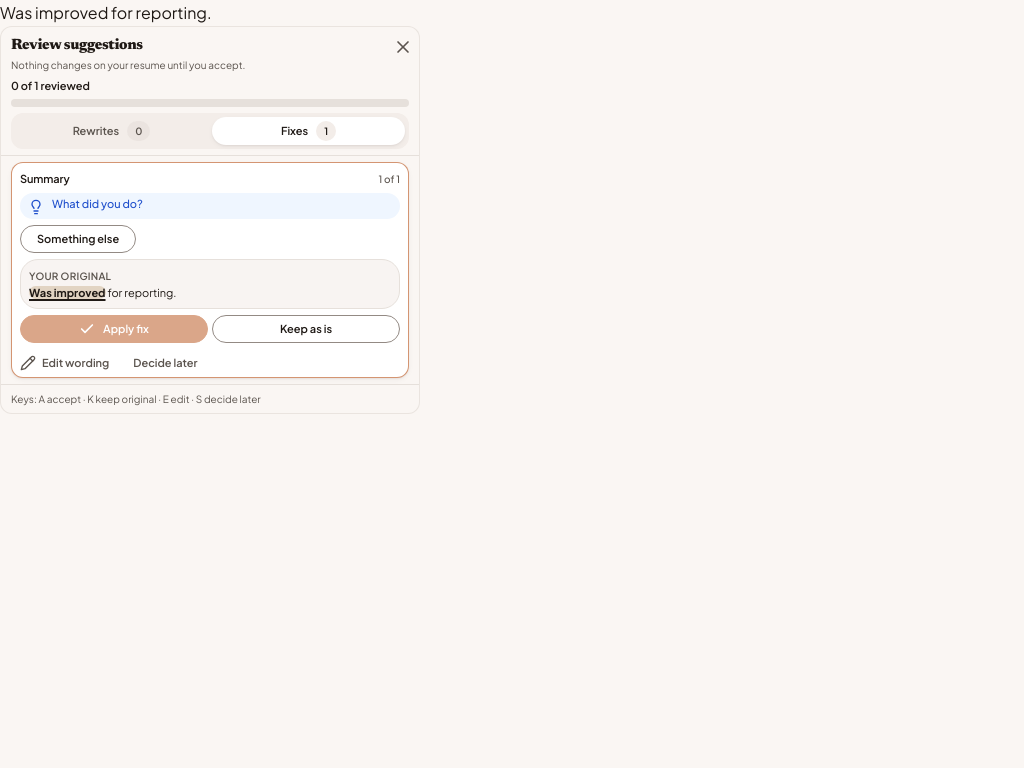
it: guided panel decisions › applies and undoes style.passive through the existing accept path
Click the button "Something else" at (78, 239), box [20,225,136,253]
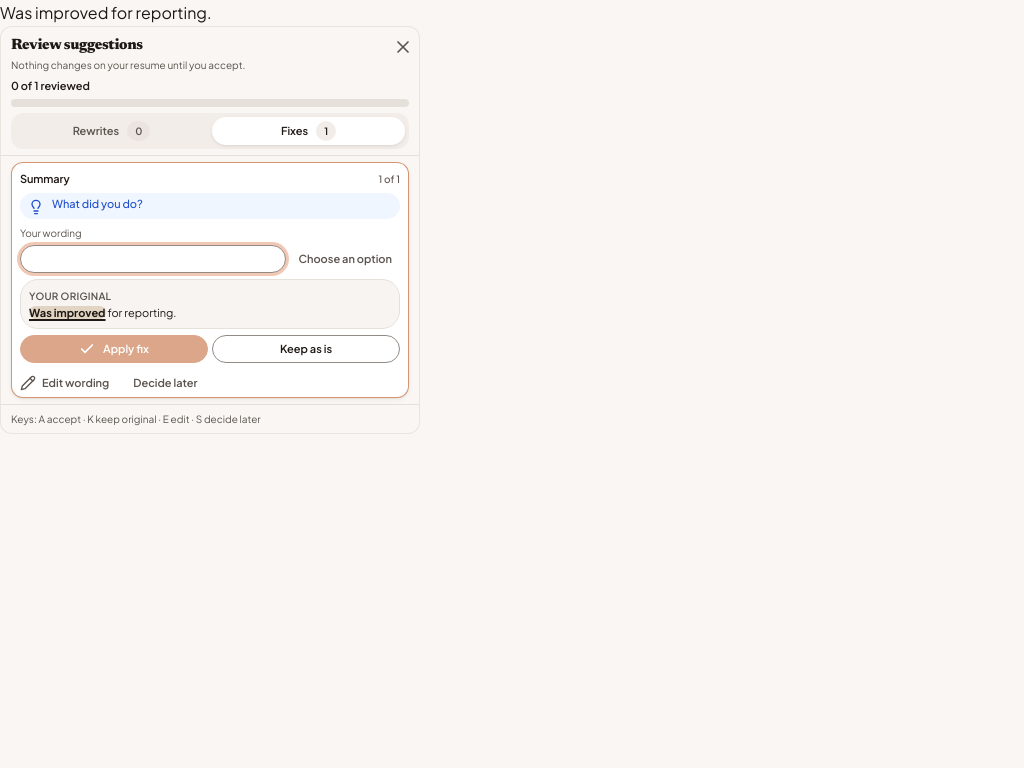
Type "Improved" into the field at (153, 259), box [20,245,286,273]
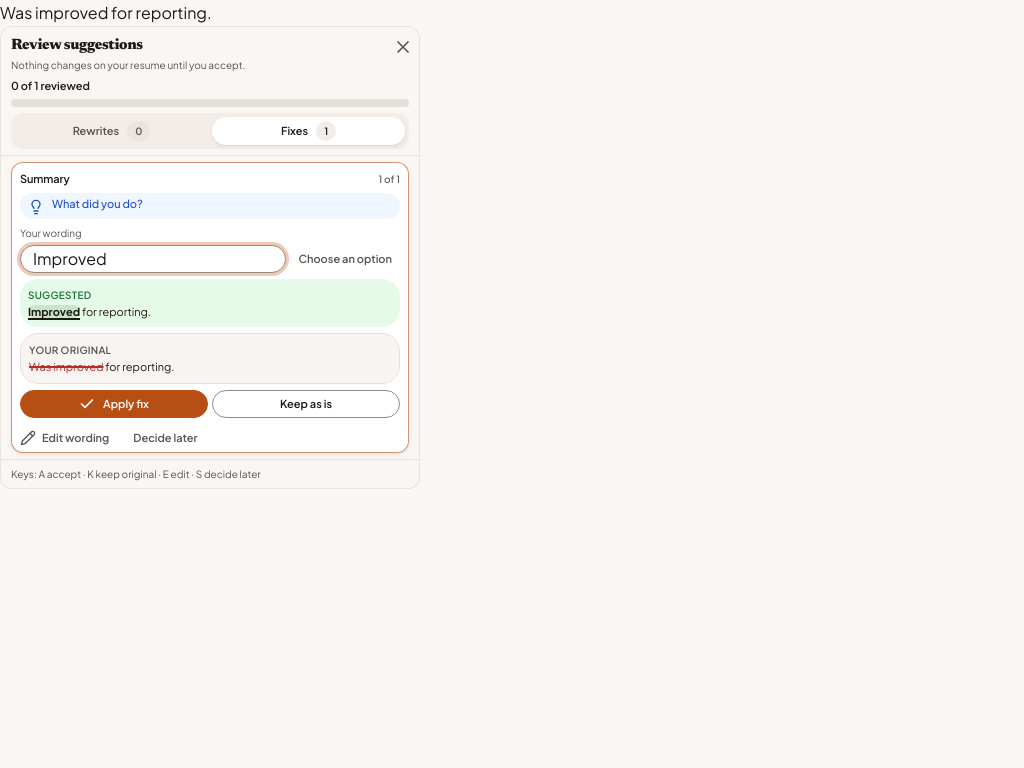
Expected: the text "Suggested" is shown, [28,289,91,301]
Click the button "Apply fix" at (114, 404), box [20,390,208,418]
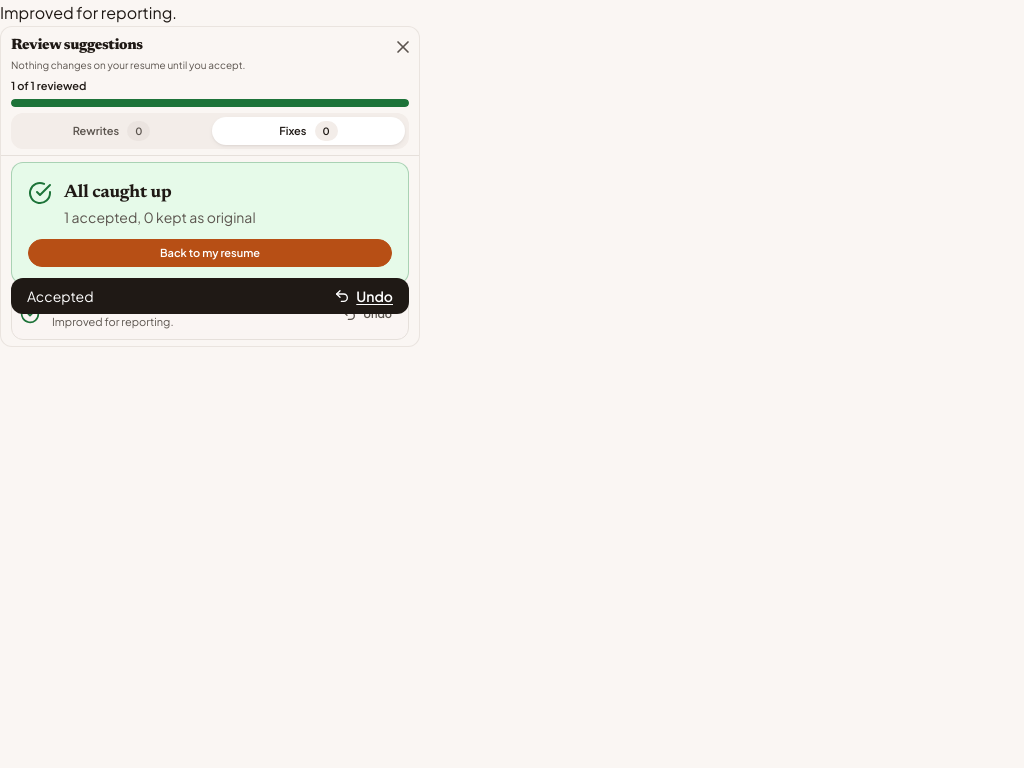
Expected: the text with test id "resume-text" no longer shows "Was improved for reporting."
Click the 1st button "Undo" at (364, 296), box [322,282,405,310]
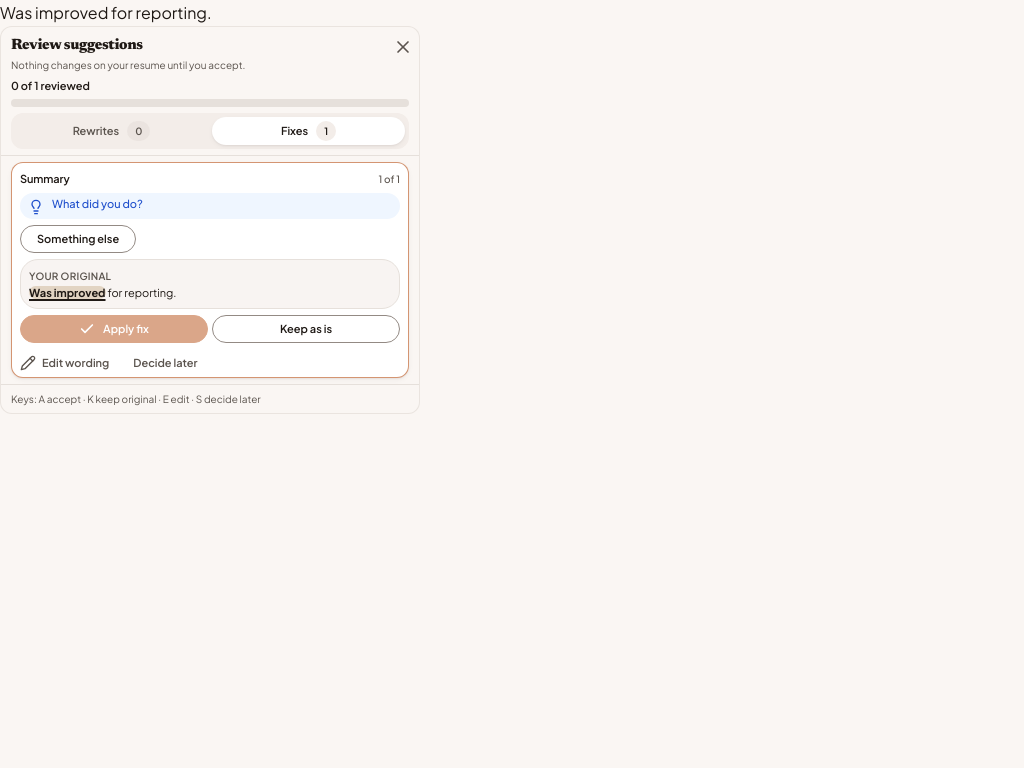
Expected: the text with test id "resume-text" reads "Was improved for reporting.", [0,2,212,23]
